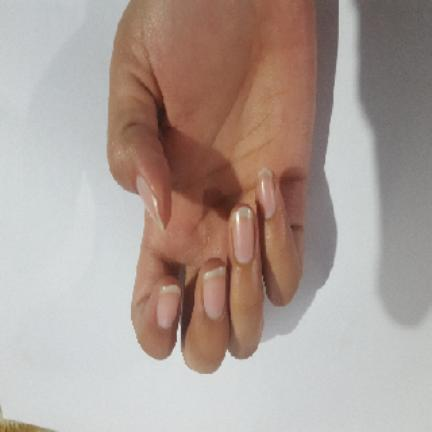Nail: (137, 176, 165, 230), (230, 206, 255, 263), (202, 267, 226, 319), (157, 284, 181, 329), (256, 168, 276, 219)
